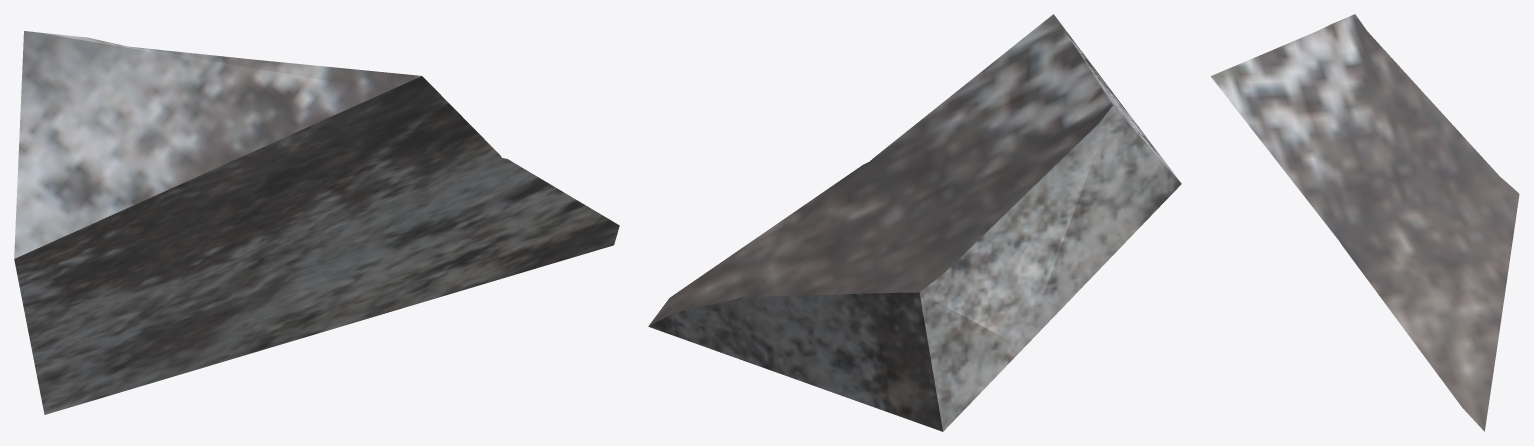
Rendered from Asteroid_Large_001_02_011_03_007.fbx.
3 views of the same model, side by side, from view 1: azimuth 30°, elevation 25°; view 2: azimuth 150°, elevation 25°; view 3: azimuth 270°, elevation 25° (orthographic). The views are drawn at different scales.
Visible parts, largest first — view 1: Asteroid_Large_001_02_011_03_007; view 2: Asteroid_Large_001_02_011_03_007; view 3: Asteroid_Large_001_02_011_03_007.
Part boxes in pixels (box(x1,y1,x2,y2)): Asteroid_Large_001_02_011_03_007: box(14, 31, 619, 414); Asteroid_Large_001_02_011_03_007: box(648, 14, 1181, 431); Asteroid_Large_001_02_011_03_007: box(1210, 14, 1519, 431).
Size of the model in its own units: 6.56 by 4.23 by 4.46.
